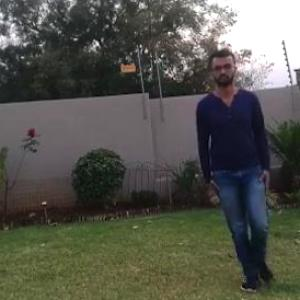follow: (195, 47, 271, 290)
